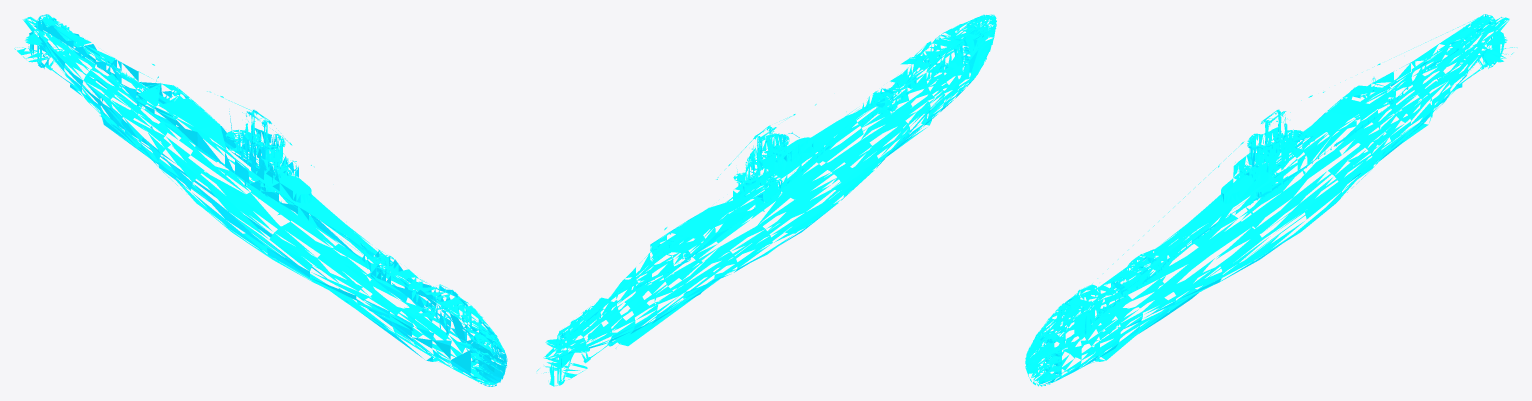
File: Thrasher.glb
The picture shows the model from 3 angles, left to right: view 1: azimuth 30°, elevation 25°; view 2: azimuth 150°, elevation 25°; view 3: azimuth 330°, elevation 25°; orthographic projection. The views are drawn at different scales.
Size of the model in its own units: 0.5277 by 0.7514 by 5.55.
